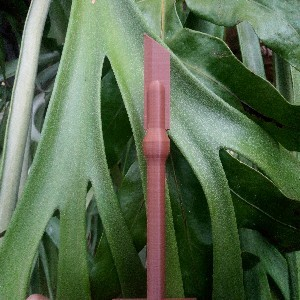cutter: (140, 31, 173, 300)
